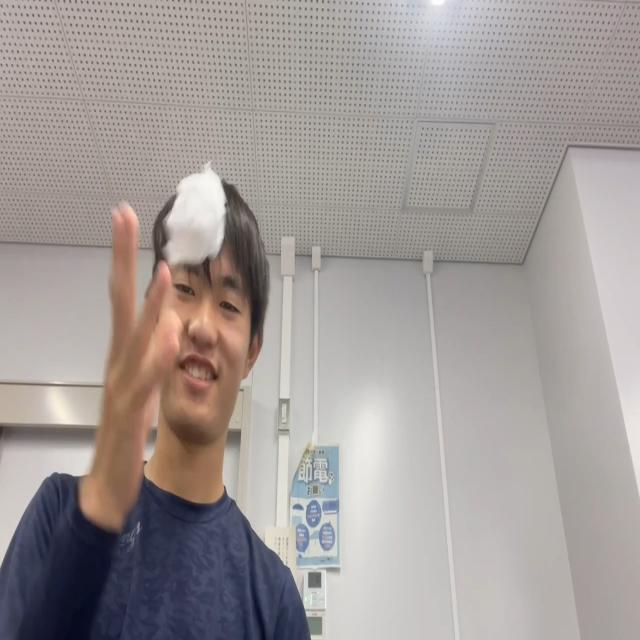paper: (159, 166, 227, 267)
